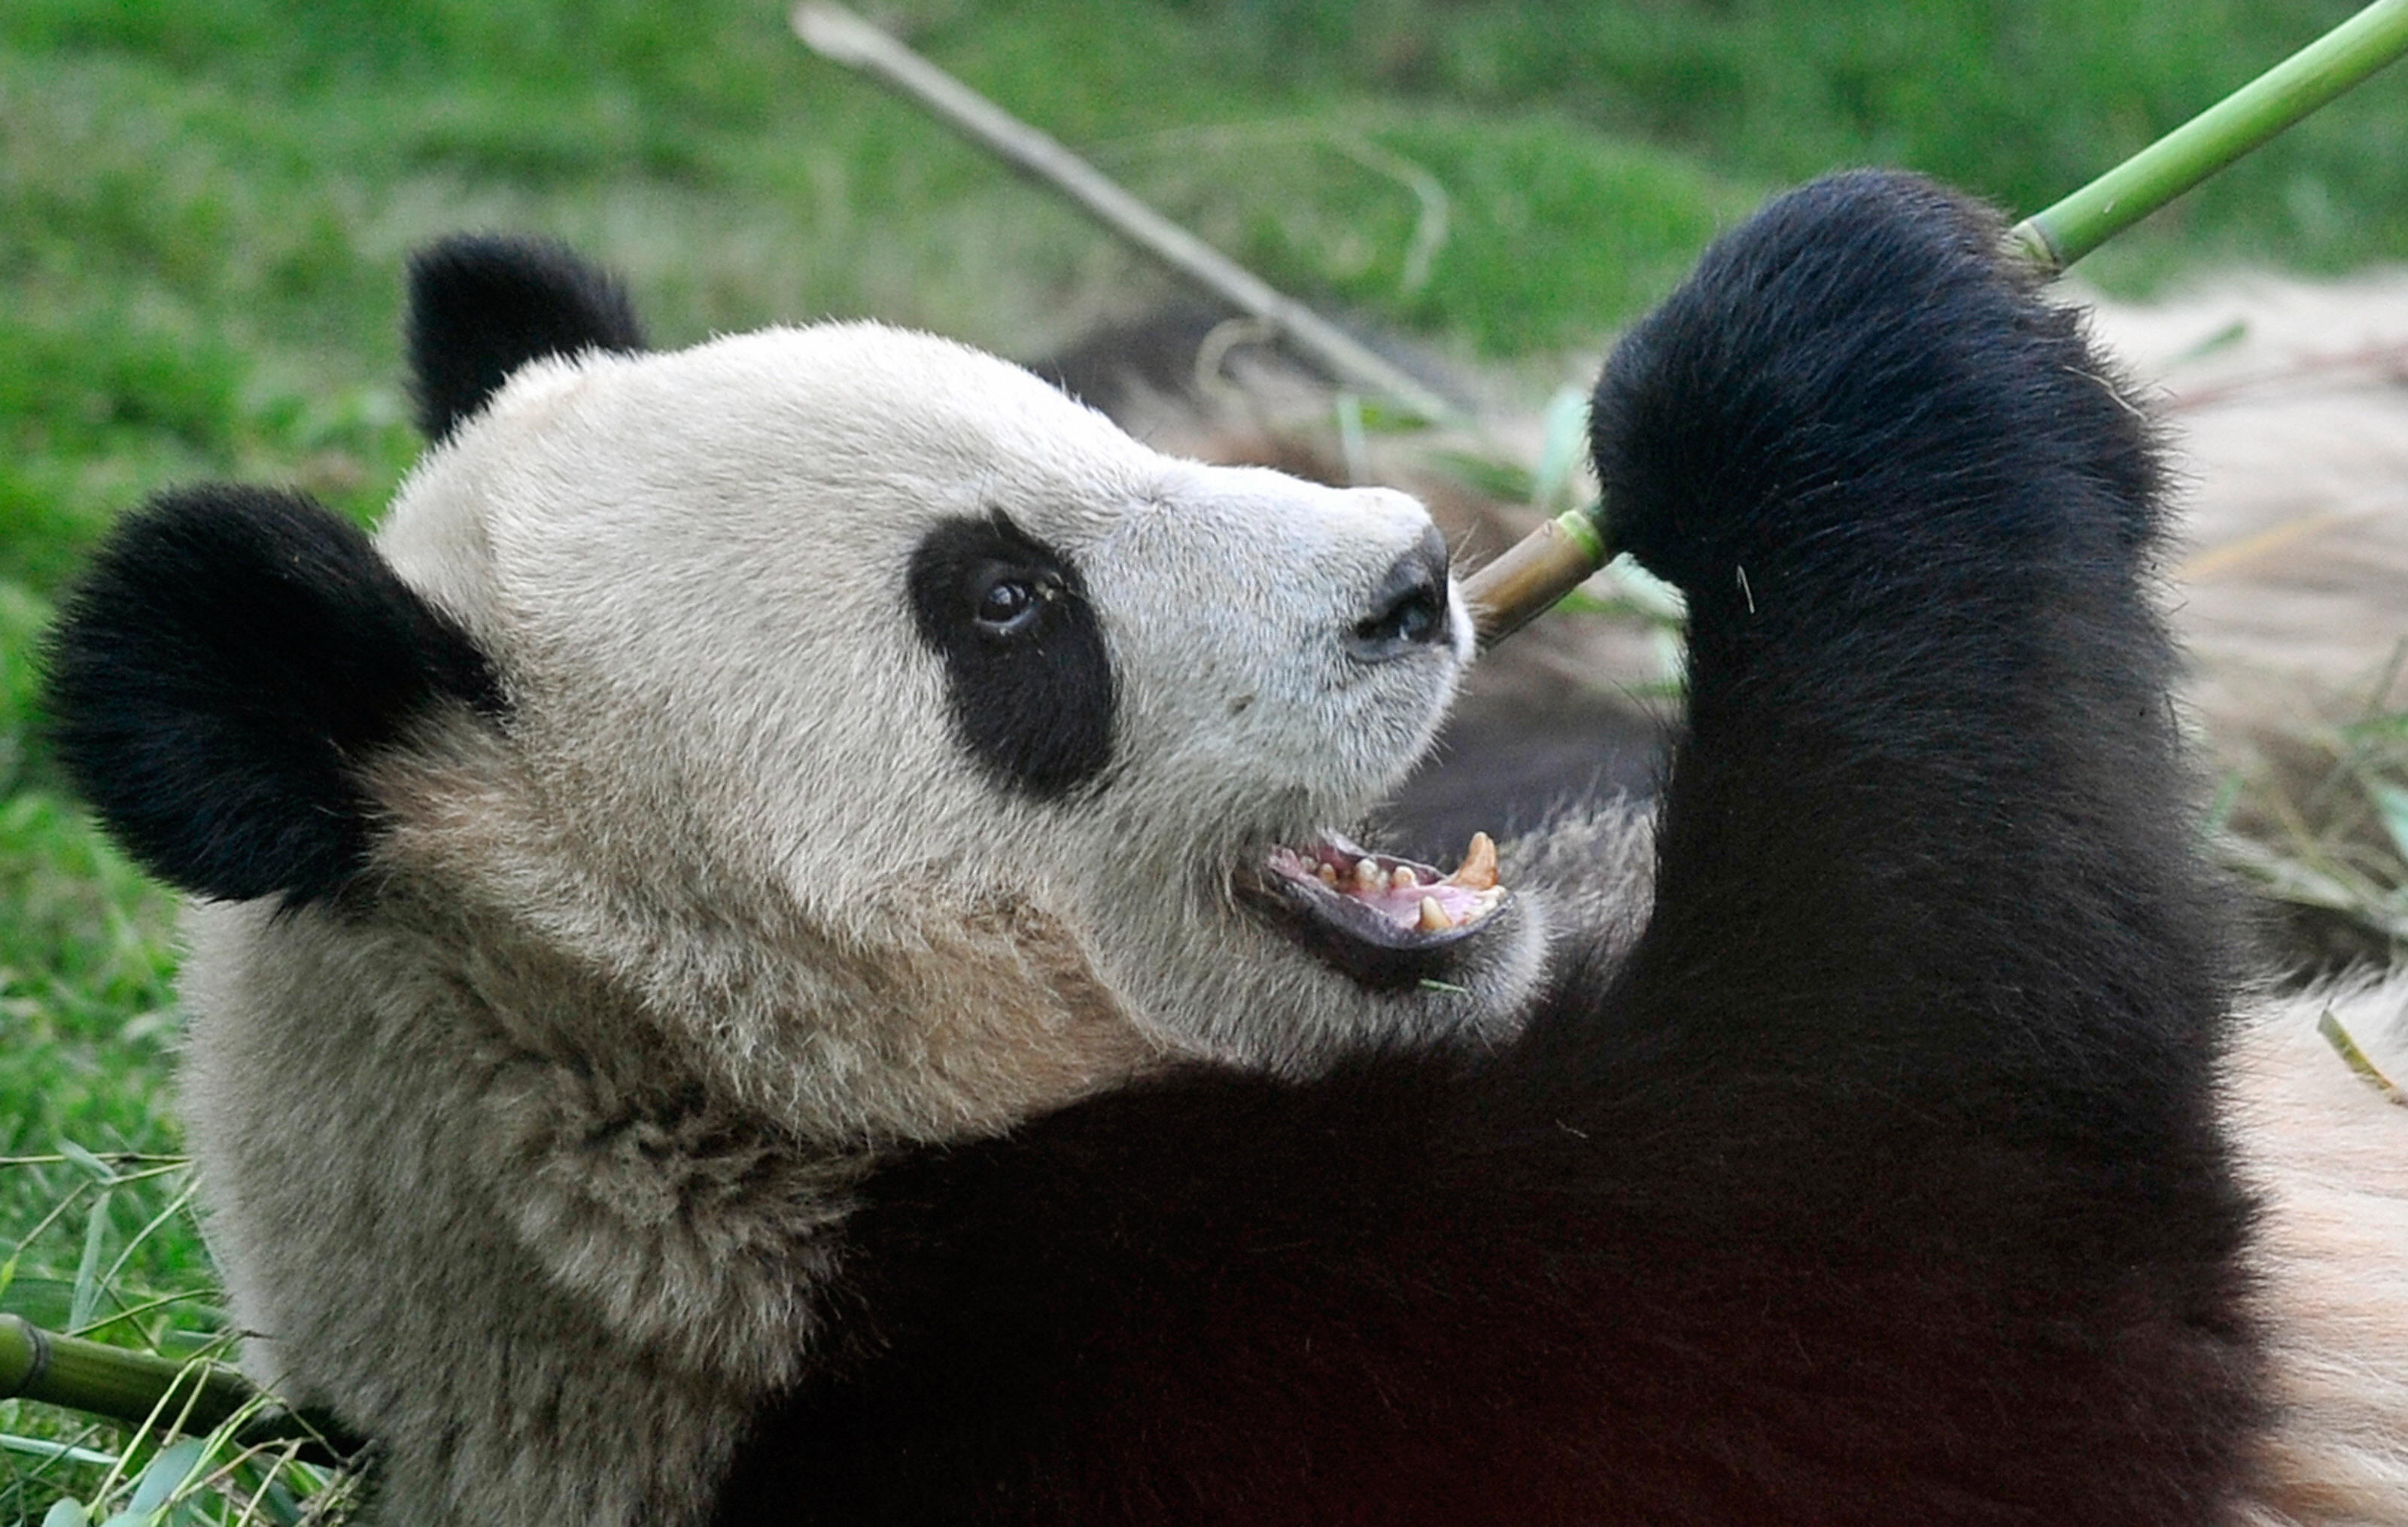panda: (123, 151, 2285, 1501)
